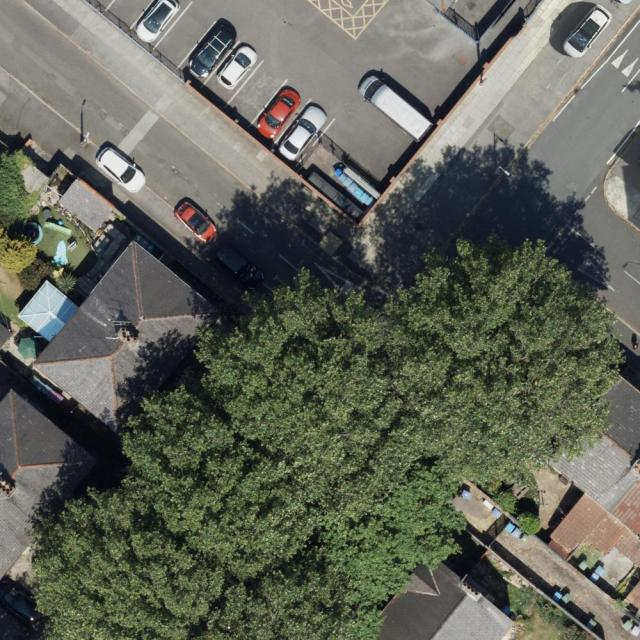roof: (15, 238, 233, 446), (0, 388, 103, 584), (539, 372, 640, 571), (377, 549, 518, 640), (56, 176, 115, 237)
